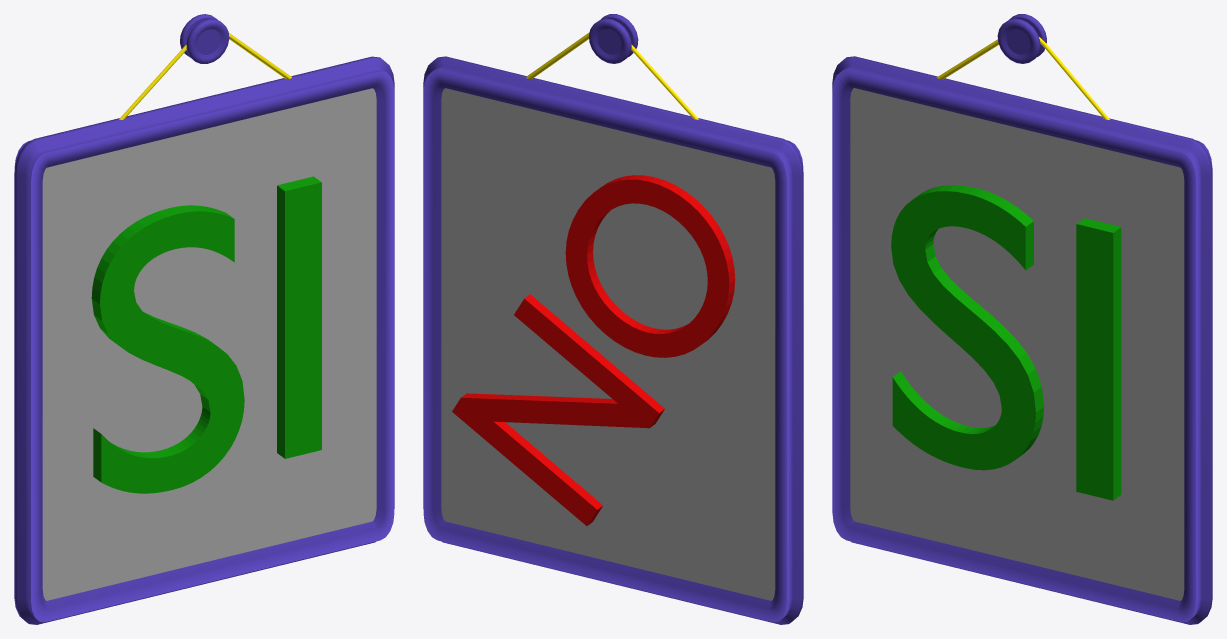
Rendered from Sign_YN.fbx.
The picture shows the model from 3 angles, left to right: view 1: azimuth 30°, elevation 25°; view 2: azimuth 150°, elevation 25°; view 3: azimuth 330°, elevation 25°; orthographic projection.
Visible parts, largest first — view 1: Sign; view 2: Sign; view 3: Sign.
Boxes of the visible parts, x1,y1,x2,y2 form: Sign: (14, 14, 394, 624); Sign: (423, 14, 803, 624); Sign: (832, 14, 1212, 624).
Bounding box in the file's own units: 6.55 × 9.37 × 0.7362.
